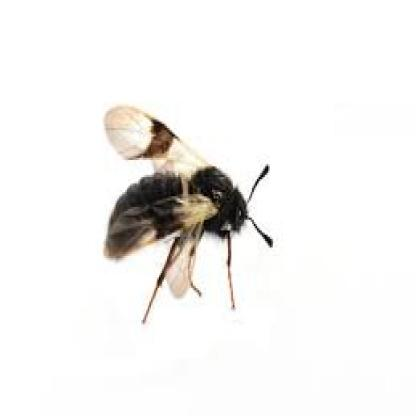sawfly: (101, 90, 273, 328)
